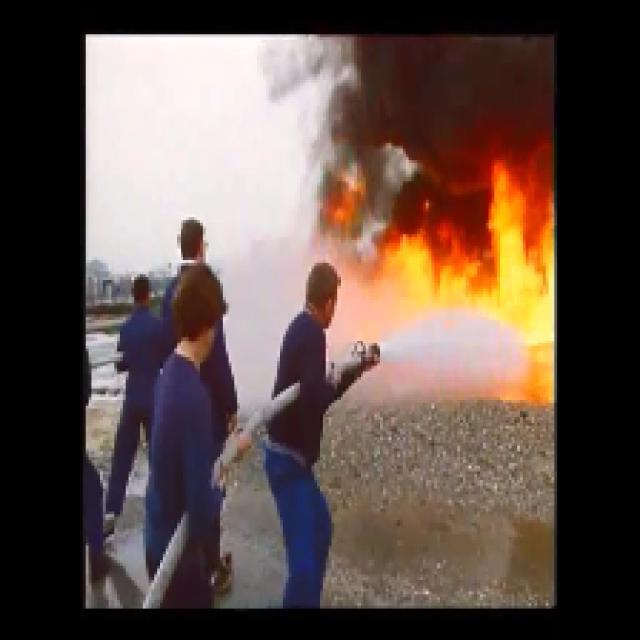Fire: (378, 228, 546, 312)
Smoke: (353, 41, 555, 202)
